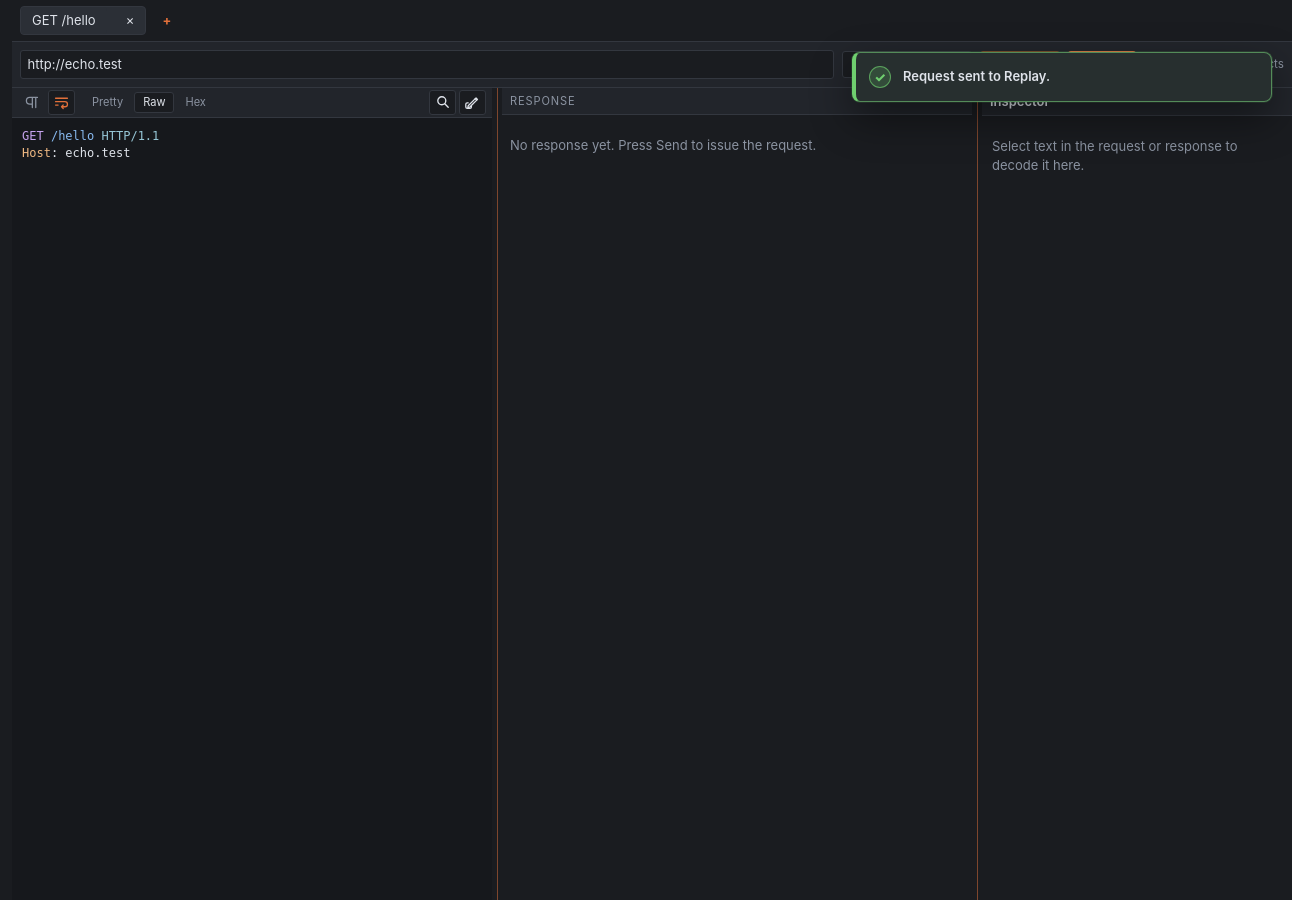
Test case: ReplayTab › automatically follows redirects when the saved option is enabled
The width and height of the screenshot is (1292, 900).
Expected: the text box named "request" is shown, [12, 118, 492, 899]
Click the button "Send" at (1102, 65), box [1068, 50, 1136, 79]
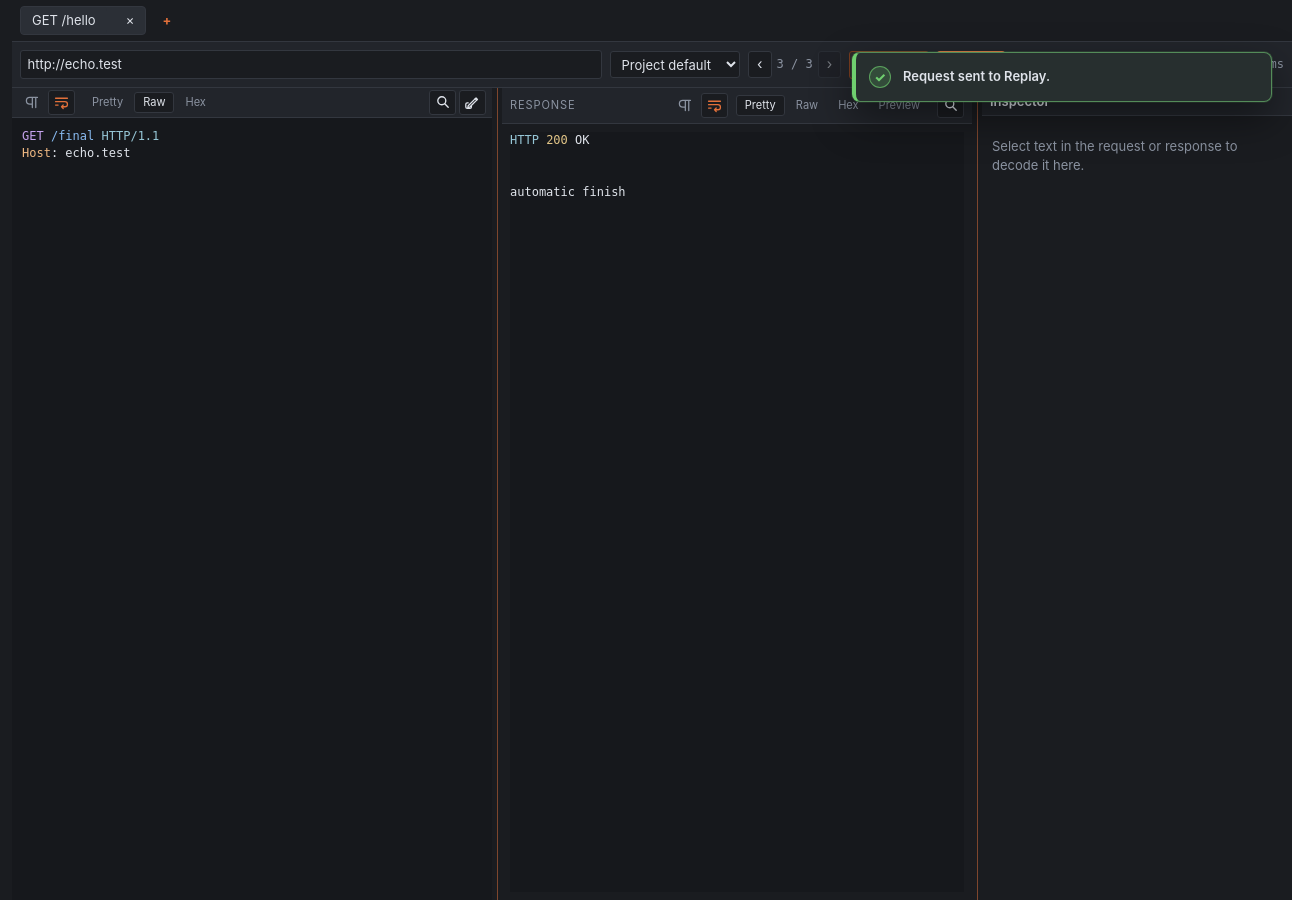
Expected: the text "HTTP 200 OK automatic finish" is shown, [510, 133, 626, 199]
